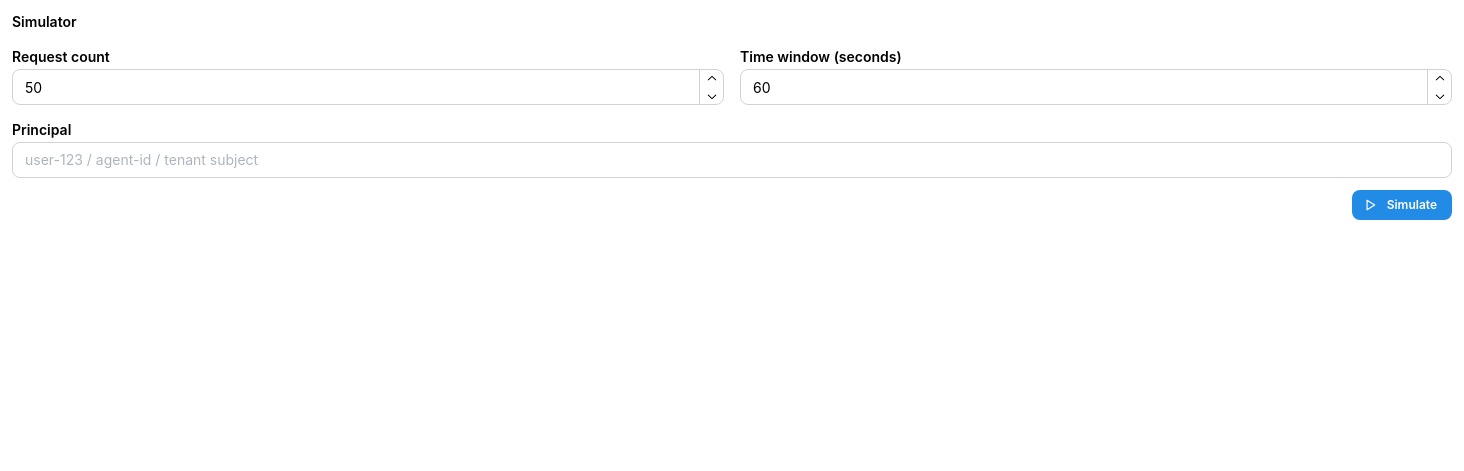
Test: <Simulator> › renders would_throttle=false when the probe stays within the limit
Click the button with test id "simulator-run": (1402, 205) [1352,190,1452,220]
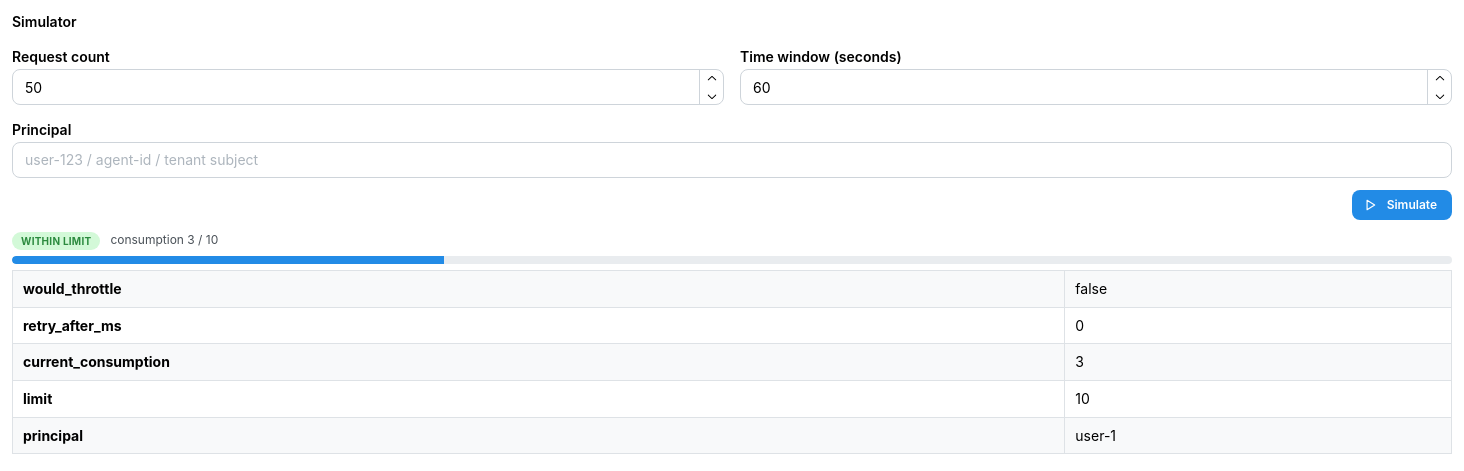
Expected: the element with test id "simulator-result" is shown, [12,232,1452,454]
Expected: the element with test id "simulator-would-throttle" reads "Within limit", [21,235,91,247]
Expected: the cell with test id "simulator-result-throttle" reads "false", [1075,280,1107,297]
